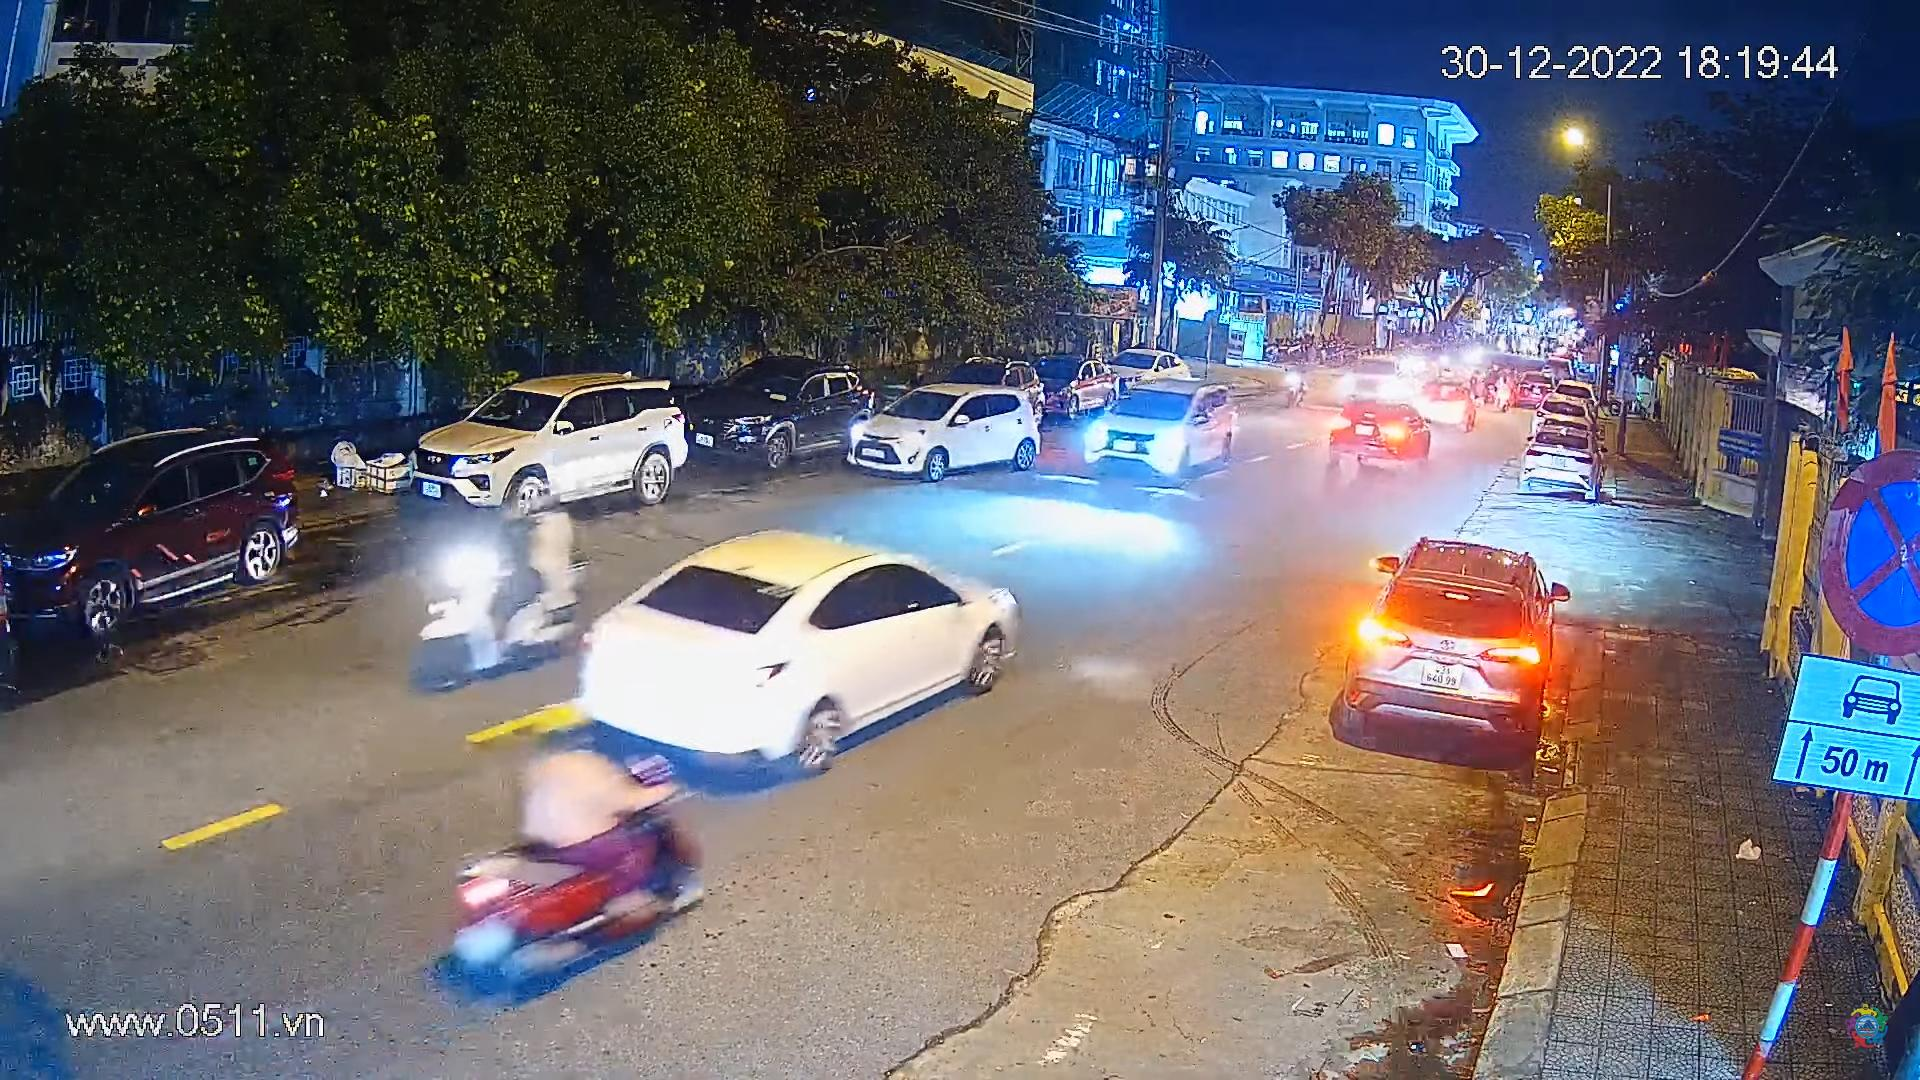car: (572, 524, 1027, 790), (0, 415, 310, 654), (1335, 534, 1575, 750), (409, 371, 694, 516), (844, 378, 1044, 488), (688, 356, 877, 469), (1076, 372, 1249, 488), (913, 353, 1043, 427), (1325, 390, 1435, 476), (1522, 419, 1604, 500), (1035, 353, 1112, 421), (1108, 347, 1191, 405), (1333, 352, 1412, 405), (1418, 373, 1482, 430), (1531, 390, 1592, 438), (1514, 369, 1553, 409)
motorcycle: (447, 694, 712, 1010), (401, 476, 587, 704), (1278, 359, 1313, 410)
